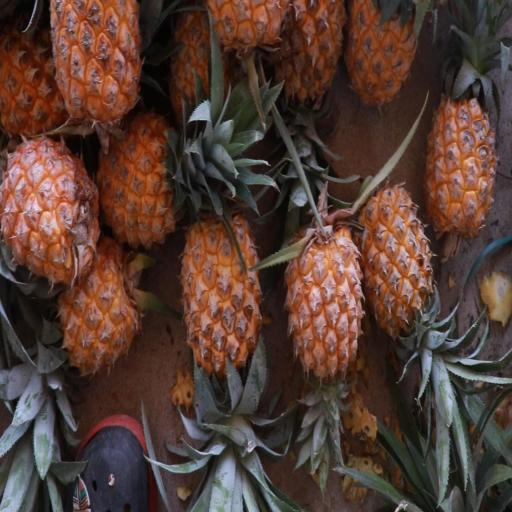Pineapple - v8 v1: (178, 206, 264, 417), (96, 106, 220, 252), (0, 128, 104, 293), (354, 172, 440, 366), (282, 213, 370, 396), (46, 1, 145, 157), (422, 54, 500, 243), (55, 226, 148, 380), (344, 0, 424, 118)
